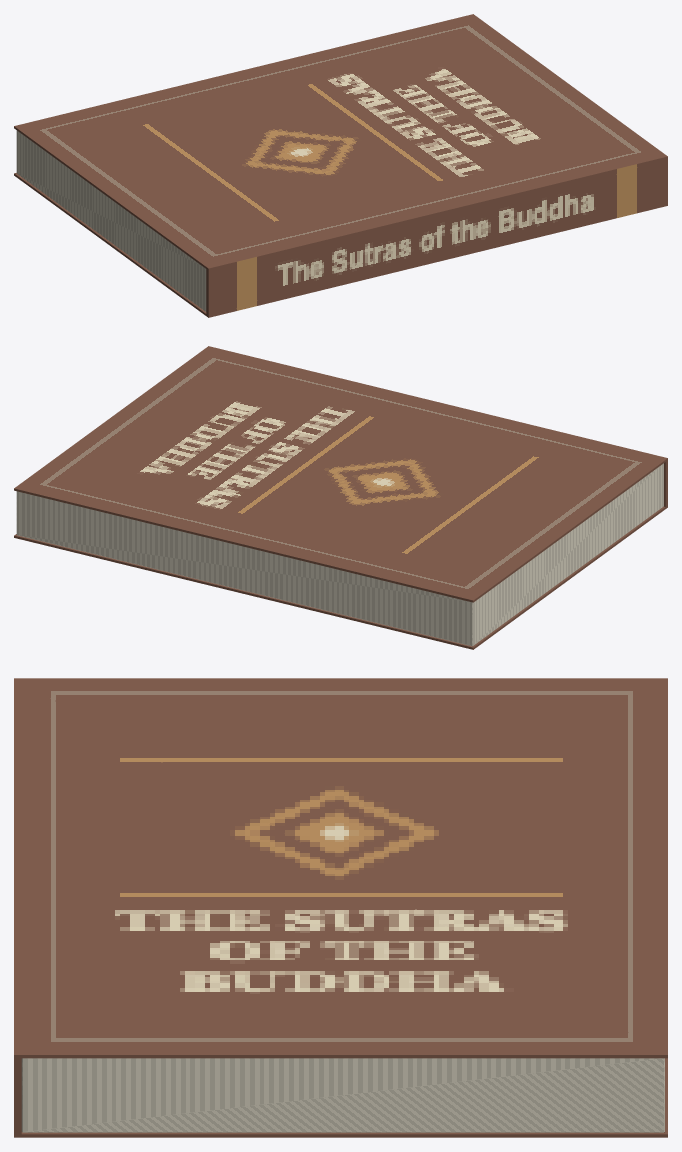
The model's file is holybook_sutras.glb.
3 views of the same model, one above another, from view 1: azimuth 30°, elevation 25°; view 2: azimuth 150°, elevation 25°; view 3: azimuth 270°, elevation 25° (orthographic). The views are drawn at different scales.
Parts seen in each view (by area): view 1: block_front, block_spine, block_pages, block_back; view 2: block_front, block_pages, block_back, block_spine; view 3: block_front, block_pages, block_back, block_spine.
Part boxes in pixels (x1=…): block_front: x1=14, y1=14, x2=665, y2=269; block_spine: x1=206, y1=155, x2=667, y2=317; block_pages: x1=16, y1=130, x2=206, y2=311; block_back: x1=14, y1=173, x2=207, y2=316; block_front: x1=14, y1=346, x2=667, y2=602; block_pages: x1=16, y1=463, x2=663, y2=646; block_back: x1=14, y1=506, x2=667, y2=649; block_spine: x1=207, y1=346, x2=667, y2=507; block_front: x1=16, y1=678, x2=667, y2=1058; block_pages: x1=21, y1=1058, x2=664, y2=1132; block_back: x1=16, y1=1058, x2=667, y2=1137; block_spine: x1=14, y1=678, x2=21, y2=1137.
Size of the model in its own units: 0.252 by 0.0259 by 0.1849.
1 material, 1 textured.
